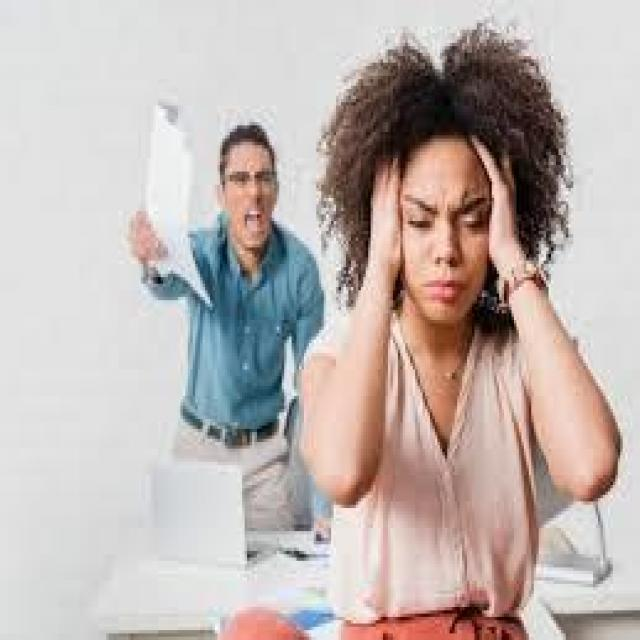person: (309, 33, 615, 581), (119, 52, 324, 548)
